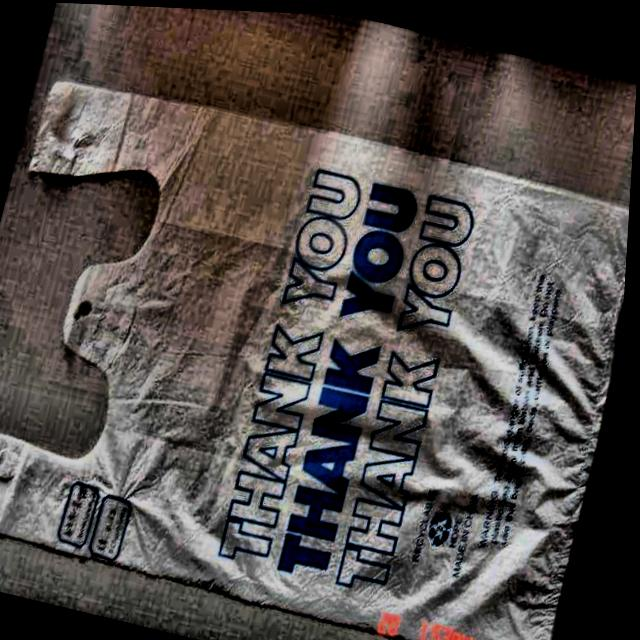Plastic: (0, 41, 638, 640)
